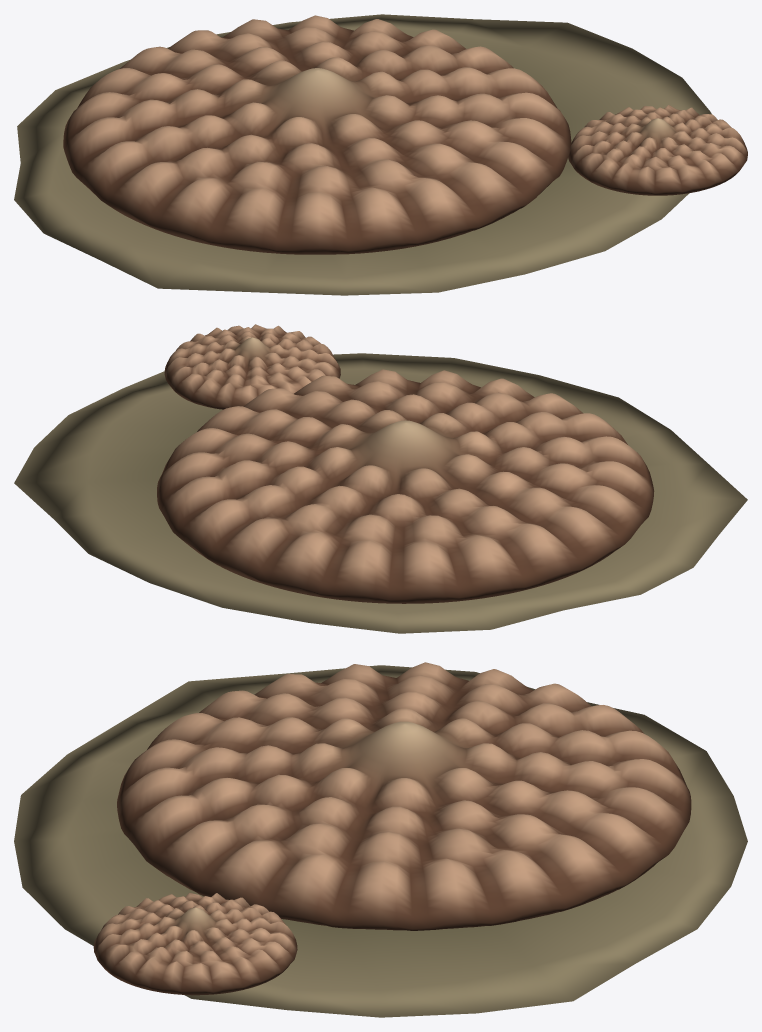
The model's file is Mawsonites.fbx.
3 views of the same model, one above another, from view 1: azimuth 30°, elevation 25°; view 2: azimuth 150°, elevation 25°; view 3: azimuth 270°, elevation 25° (orthographic). The views are drawn at different scales.
Visible parts, largest first — view 1: Mawsonites; view 2: Mawsonites; view 3: Mawsonites.
Part boxes in pixels (x1,y1,x2,y2): Mawsonites: (14,14,747,295); Mawsonites: (14,324,747,633); Mawsonites: (14,662,747,1017).
Bounding box in the file's own units: 1.8 × 0.2319 × 1.58.
